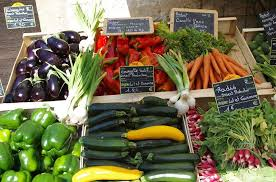carrot: (185, 32, 261, 91)
eggplant: (2, 33, 95, 102)
raddish: (185, 105, 226, 182), (230, 137, 276, 171)
